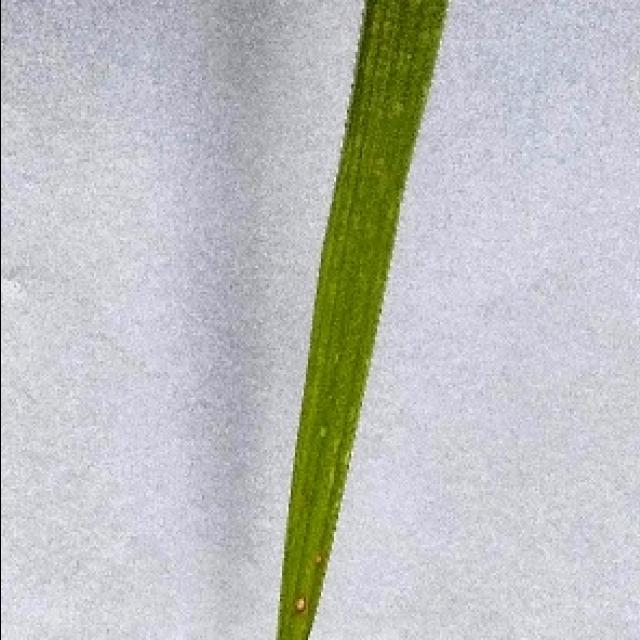Leaf_Blast: (286, 545, 338, 625)
